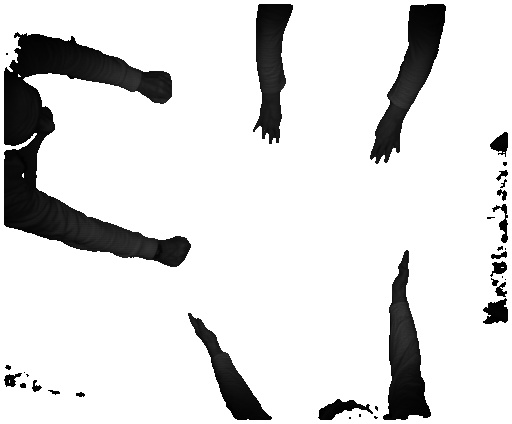fist: (143, 67, 175, 103), (162, 232, 191, 271)
hand: (248, 101, 287, 143), (368, 122, 404, 167)
spine: (184, 312, 223, 352), (384, 248, 414, 297)
